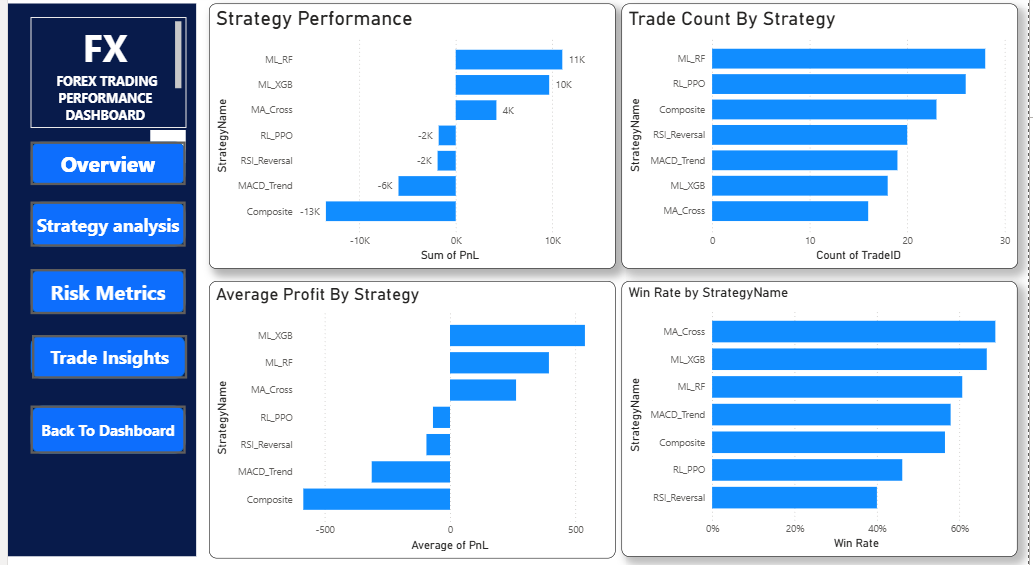

Layout of this report page (visuals, bound fields, positions):
{"tool":"powerbi","page":{"name":"Strategy & Risk Analysis","canvas":[1280,720],"ordinal":1},"visuals":[{"type":"clusteredBarChart","title":"Strategy Performance","fields":{"Category":["trade_log.StrategyName"],"Y":["Sum(trade_log.PnL)"]},"box":[251.3,13.2,510.2,332.6],"z":0},{"type":"shape","box":[0,13.2,236.2,693.5],"z":1000},{"type":"textbox","box":[28.3,30.2,194.6,139.8],"z":2000},{"type":"shape","box":[28.3,187.1,194.6,54.8],"z":3000},{"type":"actionButton","box":[28.3,187.1,194.6,54.8],"z":4000},{"type":"shape","box":[28.3,260.8,194.6,56.7],"z":5000},{"type":"actionButton","box":[28.3,260.8,194.6,56.7],"z":6000},{"type":"shape","box":[28.3,345.8,194.6,56.7],"z":7000},{"type":"actionButton","box":[28.3,345.8,194.6,56.7],"z":8000},{"type":"shape","box":[28.3,429,194.6,54.8],"z":9000},{"type":"actionButton","box":[28.2,429,197.6,54.6],"z":10000},{"type":"shape","box":[28.3,517.8,194.6,60.5],"z":11000},{"type":"actionButton","box":[28.3,517.8,194.6,60.5],"z":12000},{"type":"clusteredBarChart","title":"Trade Count By Strategy","fields":{"Category":["trade_log.StrategyName"],"Y":["CountNonNull(trade_log.TradeID)"]},"box":[769.1,13.2,497,332.6],"z":13000},{"type":"clusteredBarChart","title":"Average Profit By Strategy","fields":{"Category":["trade_log.StrategyName"],"Y":["Avg(trade_log.PnL)"]},"box":[251.3,360.9,510.2,347.7],"z":14000},{"type":"clusteredBarChart","fields":{"Category":["trade_log.StrategyName"],"Y":["forex_price_data.Win Rate"]},"box":[769.5,361.2,496.7,346.2],"z":15000}]}

Visuals, with their boxes in screenshot pixels (x1, y1, x2, y2), scaled from the page's 1280x720 canvas onto the 1033x565 screenshot:
"Strategy Performance" clusteredBarChart: pyautogui.locateOnScreen(203, 10, 615, 271)
shape: pyautogui.locateOnScreen(0, 10, 191, 555)
textbox: pyautogui.locateOnScreen(23, 24, 180, 133)
shape: pyautogui.locateOnScreen(23, 147, 180, 190)
actionButton: pyautogui.locateOnScreen(23, 147, 180, 190)
shape: pyautogui.locateOnScreen(23, 205, 180, 249)
actionButton: pyautogui.locateOnScreen(23, 205, 180, 249)
shape: pyautogui.locateOnScreen(23, 271, 180, 316)
actionButton: pyautogui.locateOnScreen(23, 271, 180, 316)
shape: pyautogui.locateOnScreen(23, 337, 180, 380)
actionButton: pyautogui.locateOnScreen(23, 337, 182, 379)
shape: pyautogui.locateOnScreen(23, 406, 180, 454)
actionButton: pyautogui.locateOnScreen(23, 406, 180, 454)
"Trade Count By Strategy" clusteredBarChart: pyautogui.locateOnScreen(621, 10, 1022, 271)
"Average Profit By Strategy" clusteredBarChart: pyautogui.locateOnScreen(203, 283, 615, 556)
clusteredBarChart - trade_log.StrategyName x forex_price_data.Win Rate: pyautogui.locateOnScreen(621, 283, 1022, 555)
